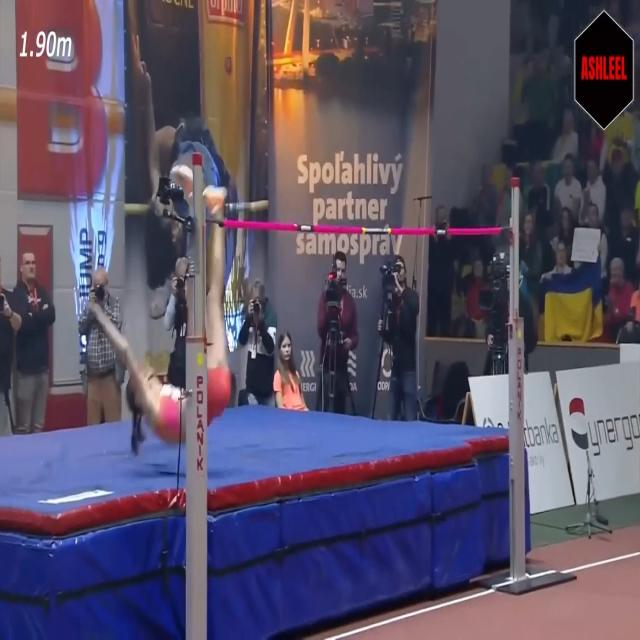land: (85, 163, 231, 440)
